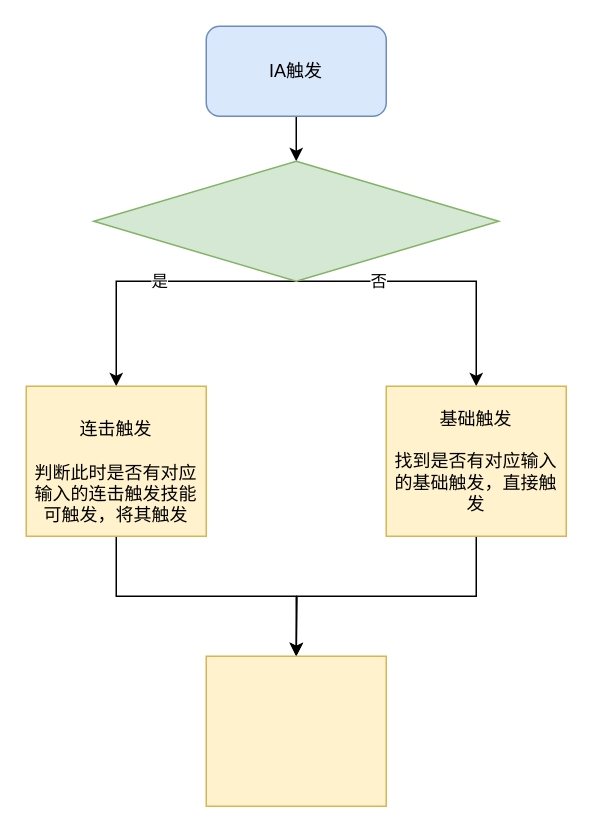
Image size: 593x833. Some labels were removed from this diagram. Each missing label, with the box of its shape:
始终触发 如果有对应的始终触发技能 始终尝试将其触发: (205, 655, 386, 806)
角色是否在技能动作中？: (92, 160, 499, 281)
